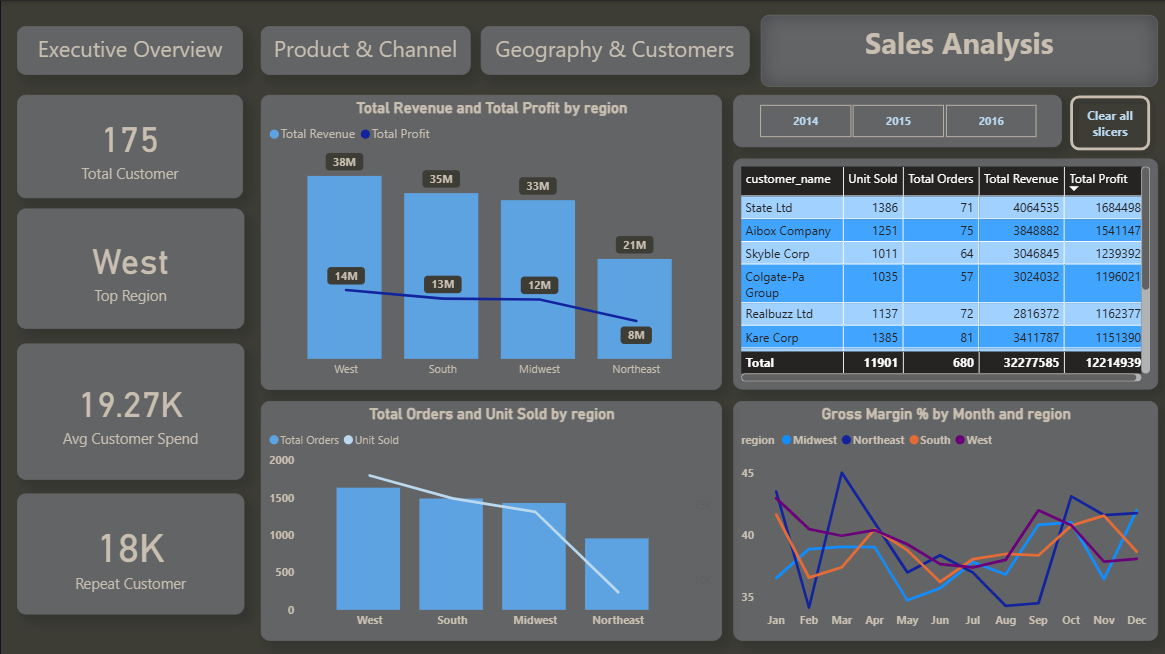

The dashboard page shown, as its layout file describes it:
{"tool":"powerbi","page":{"name":"Geography & Customers","canvas":[1280,720],"ordinal":2},"visuals":[{"type":"actionButton","box":[7.8,23.1,257,56.2],"z":0,"group":"g1"},{"type":"card","fields":{"Values":["_Measure.Total Customer"]},"box":[16.5,102.9,248.4,113.9],"z":0},{"type":"card","fields":{"Values":["_Measure.Top Region"]},"box":[16.5,227.8,249.7,131.7],"z":1},{"type":"card","fields":{"Values":["_Measure.Avg Customer Spend"]},"box":[16.5,376,249.7,149.6],"z":2},{"type":"card","fields":{"Values":["_Measure.Repeat Customer %"]},"box":[16.5,540.7,249.7,133.1],"z":3},{"type":"lineStackedColumnComboChart","fields":{"Category":["final.region"],"Y":["_Measure.Total Revenue"],"Y2":["_Measure.Total Profit"]},"box":[284,102.9,506.3,323.8],"z":4},{"type":"pivotTable","fields":{"Rows":["final.customer_name"],"Values":["_Measure.Unit Sold","_Measure.Total Orders","_Measure.Total Revenue","_Measure.Total Profit"]},"box":[802.7,172.9,466.6,253.9],"z":5},{"type":"lineChart","fields":{"Y":["_Measure.Gross Margin %"],"Category":["final.Month"],"Series":["final.region"]},"box":[802.7,439.1,466.6,263.5],"z":6},{"type":"lineStackedColumnComboChart","fields":{"Category":["final.region"],"Y2":["_Measure.Unit Sold"],"Y":["_Measure.Total Orders"]},"box":[284,439.1,506.3,263.5],"z":7},{"type":"textbox","box":[16.5,27.4,248.4,53.5],"z":8},{"type":"textbox","box":[284,27.4,230.5,53.5],"z":9},{"type":"textbox","box":[525.6,27.4,295,53.5],"z":10},{"type":"textbox","box":[832.9,15.1,436.4,79.6],"z":11},{"type":"group","id":"g1","title":"Nav Button","box":[7.8,23.1,812.8,57.8],"z":12},{"type":"slicer","fields":{"Values":["final.order_date.Variation.Date Hierarchy.Year"]},"box":[802.7,102.9,360.9,57.6],"z":13},{"type":"actionButton","box":[1163.6,94.7,105.7,78.2],"z":14},{"type":"actionButton","box":[525.6,27.4,295,53.5],"z":1000,"group":"g1"},{"type":"actionButton","box":[284.1,27.4,230.5,53.5],"z":2000,"group":"g1"}]}

Visuals, with their boxes in screenshot pixels (x1, y1, x2, y2), scaled from the page's 1280x720 canvas onto the 1165x654 screenshot:
actionButton: bbox(7, 21, 241, 72)
card - _Measure.Total Customer: bbox(15, 93, 241, 197)
card - _Measure.Top Region: bbox(15, 207, 242, 327)
card - _Measure.Avg Customer Spend: bbox(15, 342, 242, 477)
card - _Measure.Repeat Customer %: bbox(15, 491, 242, 612)
lineStackedColumnComboChart - final.region x _Measure.Total Revenue: bbox(258, 93, 719, 388)
pivotTable - final.customer_name x _Measure.Unit Sold: bbox(731, 157, 1155, 388)
lineChart - _Measure.Gross Margin % x final.Month: bbox(731, 399, 1155, 638)
lineStackedColumnComboChart - final.region x _Measure.Unit Sold: bbox(258, 399, 719, 638)
textbox: bbox(15, 25, 241, 73)
textbox: bbox(258, 25, 468, 73)
textbox: bbox(478, 25, 747, 73)
textbox: bbox(758, 14, 1155, 86)
"Nav Button" group: bbox(7, 21, 747, 73)
slicer - final.order_date.Variation.Date Hierarchy.Year: bbox(731, 93, 1059, 146)
actionButton: bbox(1059, 86, 1155, 157)
actionButton: bbox(478, 25, 747, 73)
actionButton: bbox(259, 25, 468, 73)
